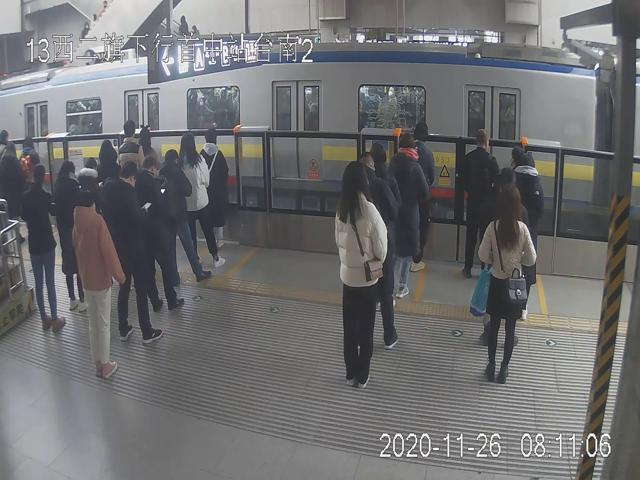person: (333, 160, 388, 385), (104, 161, 165, 344), (481, 185, 536, 384), (72, 190, 126, 377), (21, 163, 70, 332), (137, 154, 184, 311), (160, 148, 211, 283), (389, 132, 429, 298), (53, 160, 91, 313), (180, 131, 223, 266), (201, 125, 228, 247)
